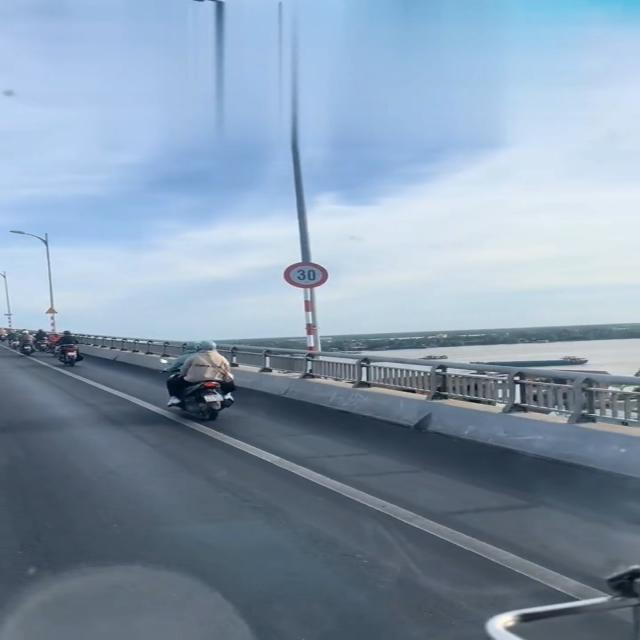127-toc-do-toi-da-30: (282, 262, 329, 288)
